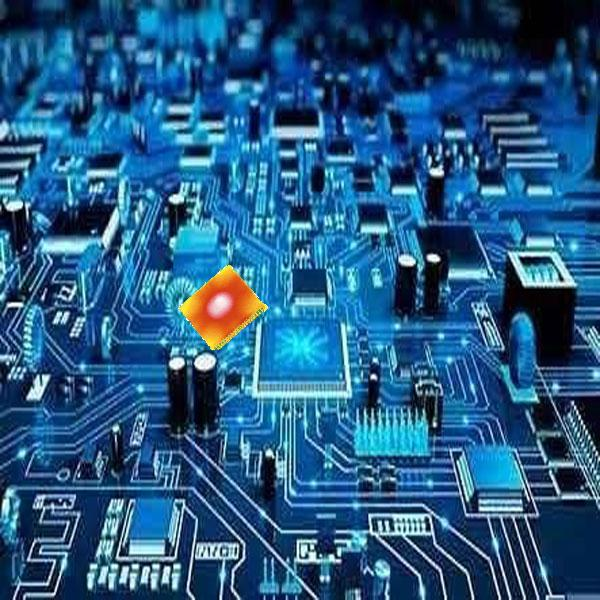componente_T: (176, 265, 272, 349)
